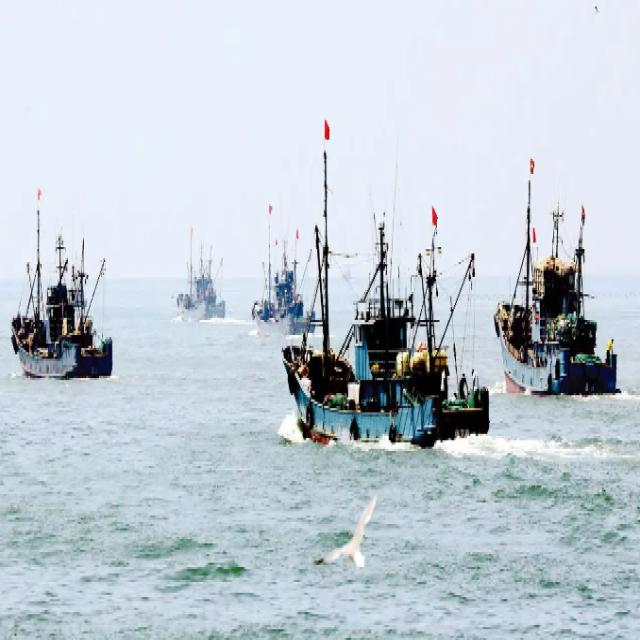fishing boat: (283, 157, 488, 442), (495, 148, 617, 403), (12, 206, 117, 376), (254, 197, 318, 327), (178, 222, 228, 314)
